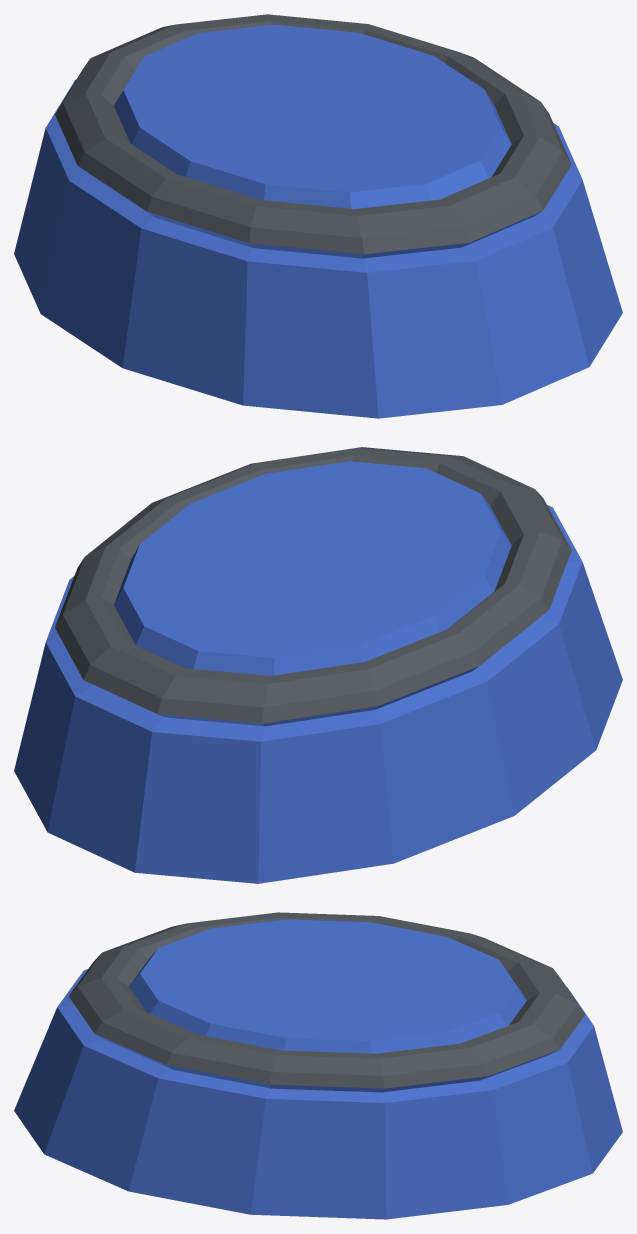
Rendered from Fighter_05_Hatch_Blue.fbx.
3 renders of one model, top to bottom at view 1: azimuth 30°, elevation 25°; view 2: azimuth 150°, elevation 25°; view 3: azimuth 270°, elevation 25°, orthographic. The views are drawn at different scales.
Parts seen in each view (by area): view 1: Fighter_05_Hatch_Blue; view 2: Fighter_05_Hatch_Blue; view 3: Fighter_05_Hatch_Blue.
Boxes of the visible parts, x1,y1,x2,y2 form: Fighter_05_Hatch_Blue: (14, 14, 622, 418); Fighter_05_Hatch_Blue: (14, 447, 622, 883); Fighter_05_Hatch_Blue: (14, 912, 622, 1219).
Size of the model in its own units: 177 by 68.16 by 237.
1 material, 1 textured.
